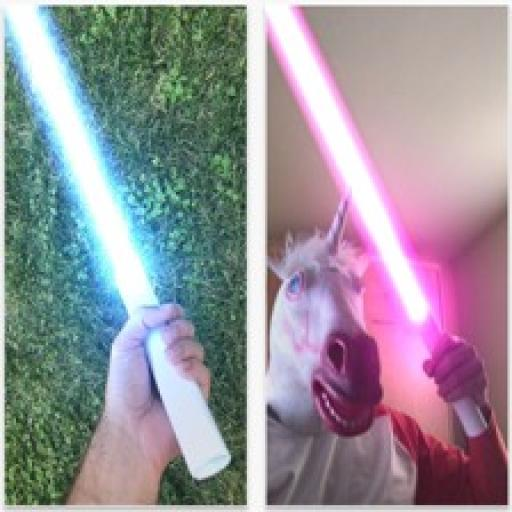lightsaber: (7, 3, 231, 483), (263, 2, 486, 439)
